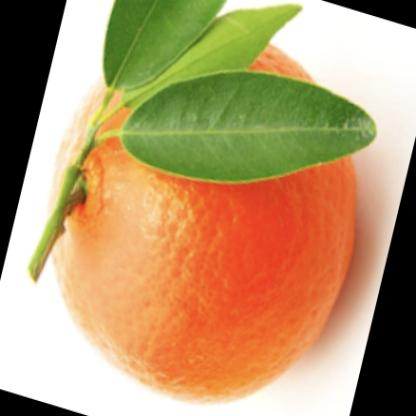fresh: (51, 29, 355, 390)
